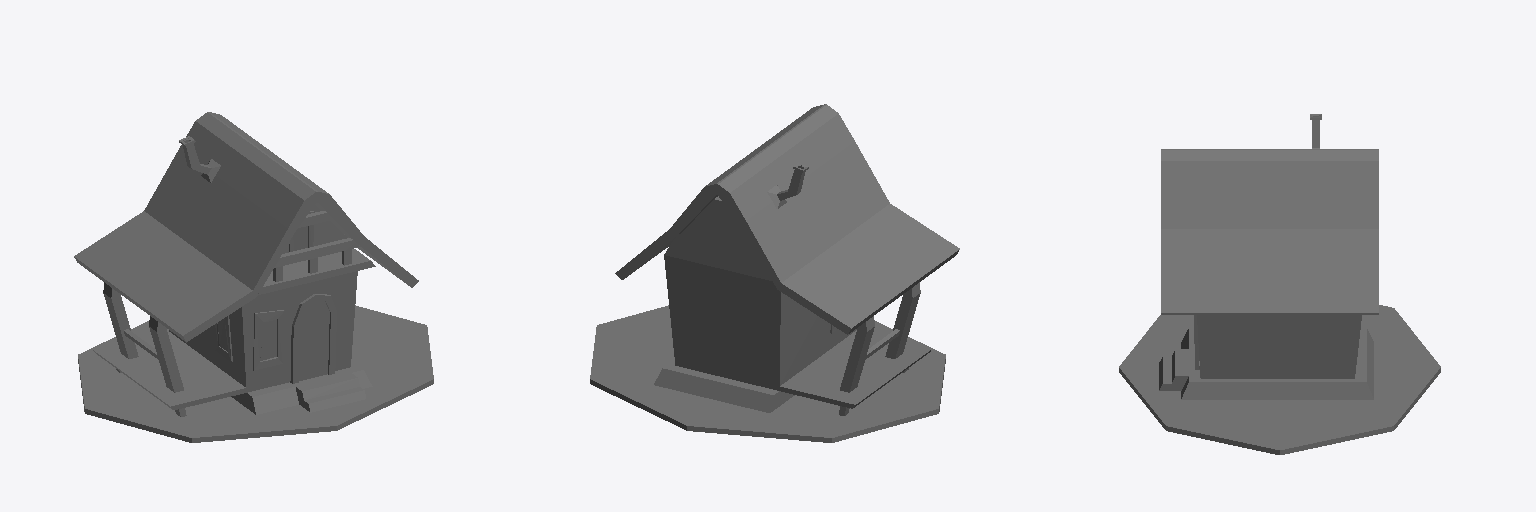
File: Haus.obj
3 renders of one model, left to right at view 1: azimuth 30°, elevation 25°; view 2: azimuth 150°, elevation 25°; view 3: azimuth 270°, elevation 25°, orthographic.
Parts seen in each view (by area): view 1: Haus; view 2: Haus; view 3: Haus.
Boxes of the visible parts, box(x1,y1,x2,y2) form: Haus: box(74, 112, 433, 442); Haus: box(590, 104, 959, 442); Haus: box(1119, 114, 1440, 454).
Bounding box in the file's own units: 185 × 120 × 151.